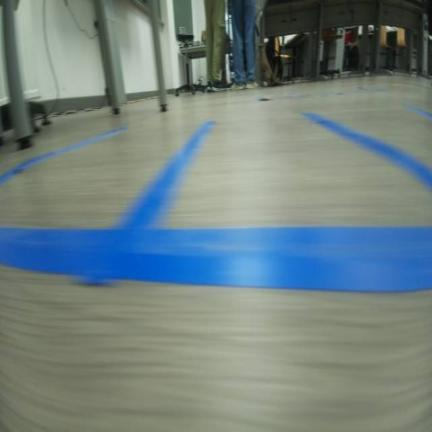place: (89, 108, 431, 287), (0, 120, 218, 278), (300, 102, 431, 194)
